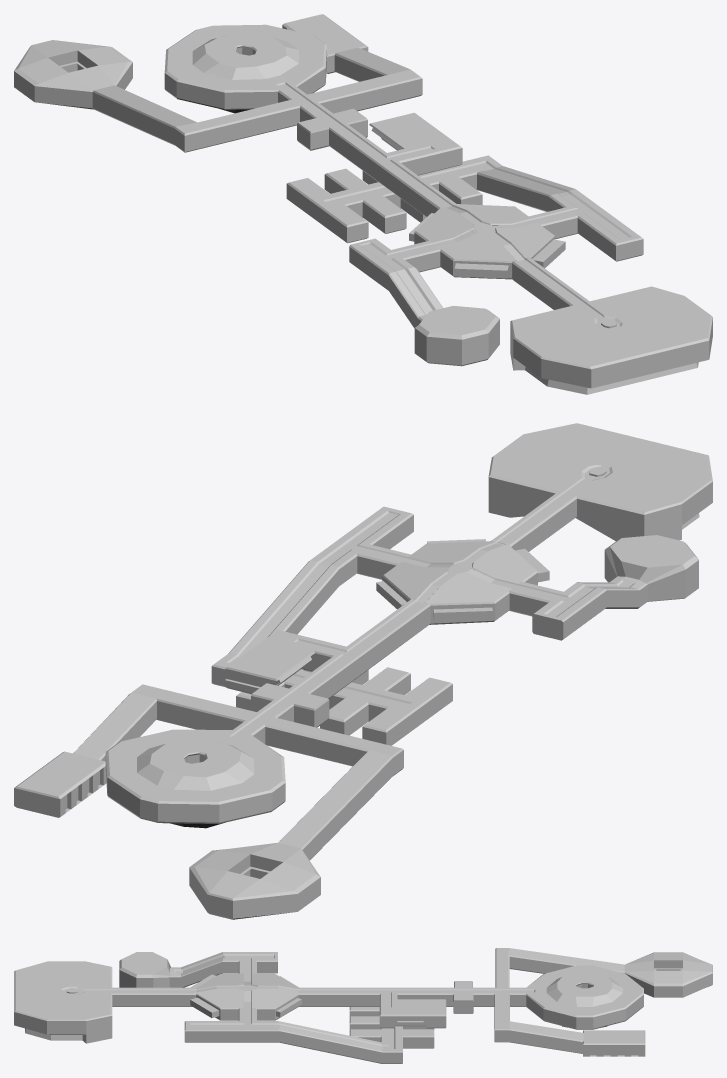
The model's file is Cenário.fbx.
3 views of the same model, one above another, from view 1: azimuth 30°, elevation 25°; view 2: azimuth 150°, elevation 25°; view 3: azimuth 270°, elevation 25° (orthographic). The views are drawn at different scales.
Visible parts, largest first — view 1: Plane; view 2: Plane; view 3: Plane.
Boxes of the visible parts, x1,y1,x2,y2 form: Plane: (14, 14, 712, 394); Plane: (14, 423, 712, 919); Plane: (14, 948, 712, 1063).
Size of the model in its own units: 41.76 by 7.91 by 127.
